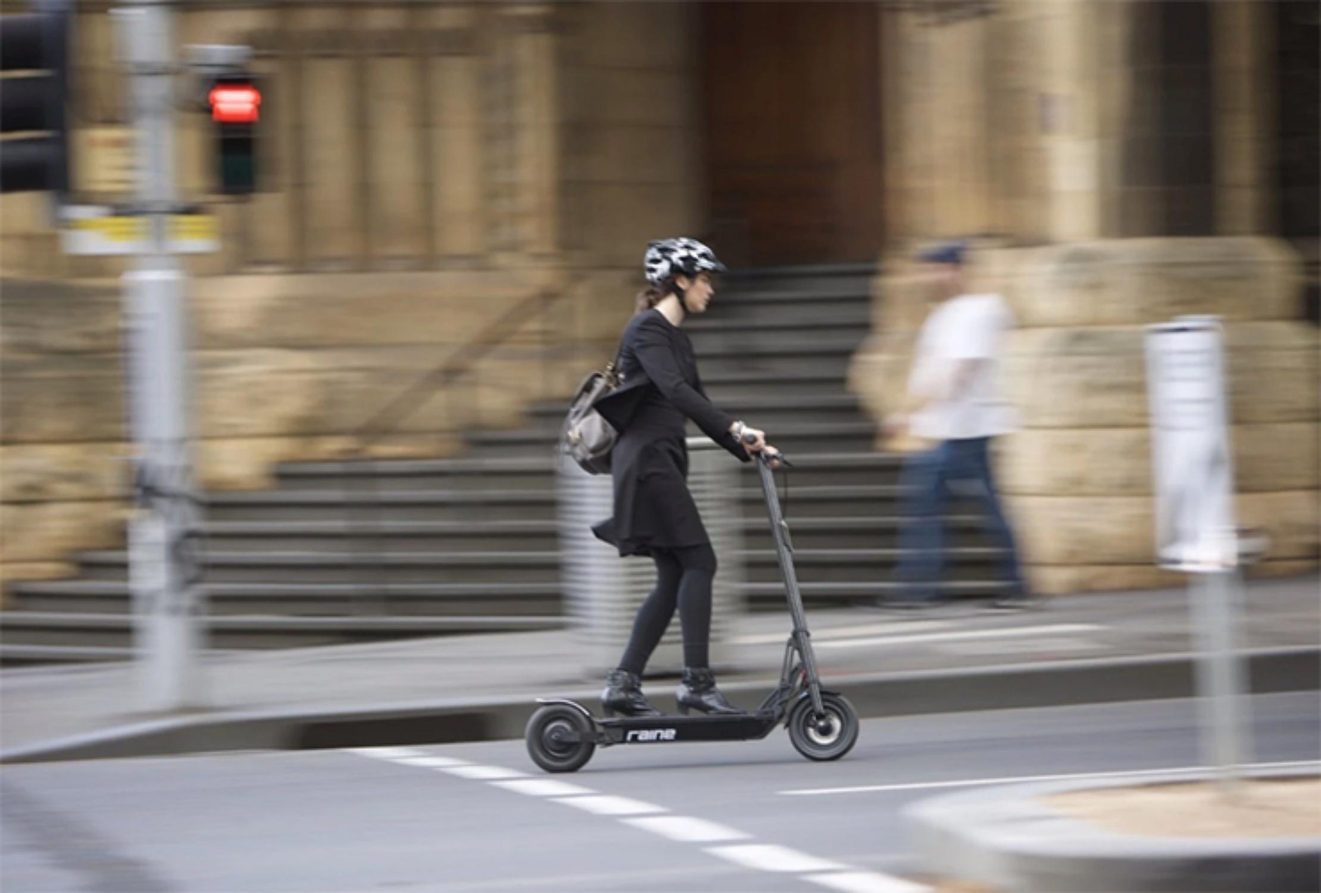helmet: (624, 236, 729, 321)
human: (613, 241, 757, 710)
kickboard: (517, 691, 856, 784)
